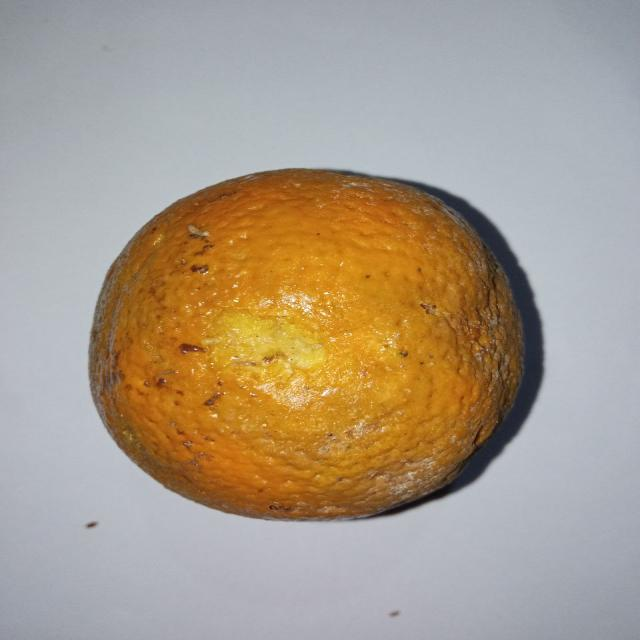rotten_orange: (88, 170, 519, 520)
